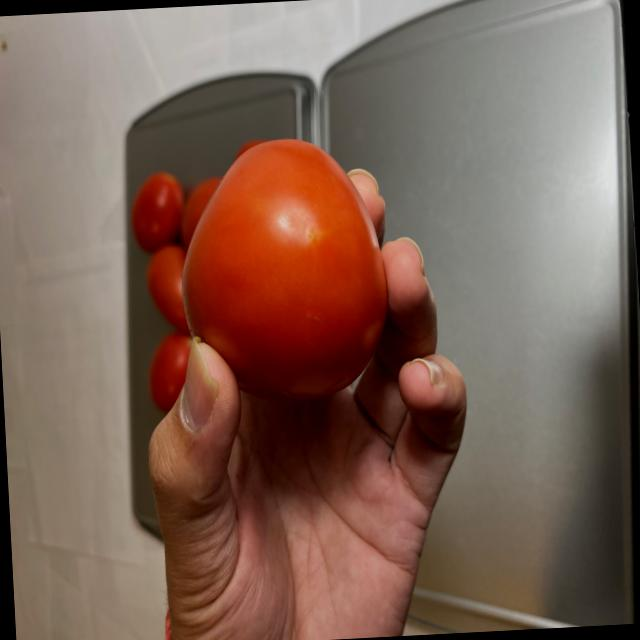tomato: (128, 134, 394, 415)
